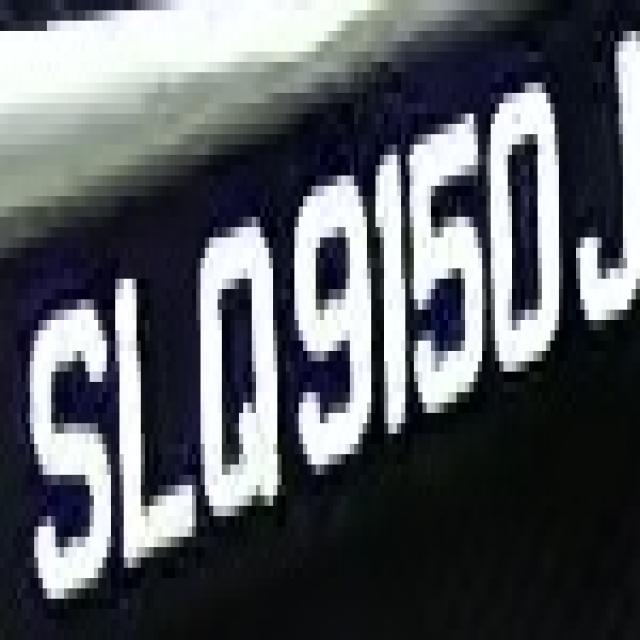0: (482, 62, 563, 403)
1: (367, 124, 418, 475)
5: (392, 72, 487, 454)
9: (286, 175, 375, 506)
J: (563, 10, 640, 372)
L: (107, 227, 209, 599)
Q: (183, 155, 294, 537)
S: (21, 278, 115, 640)
